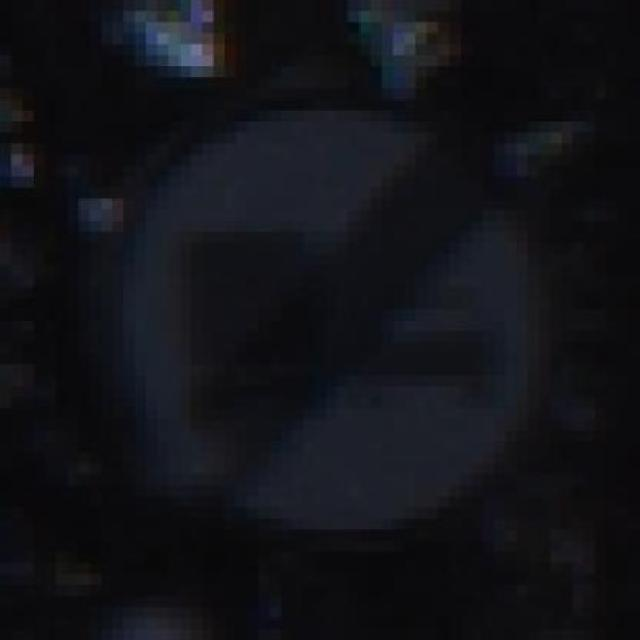Overtaking by trucks is prohibited: (79, 54, 550, 552)
